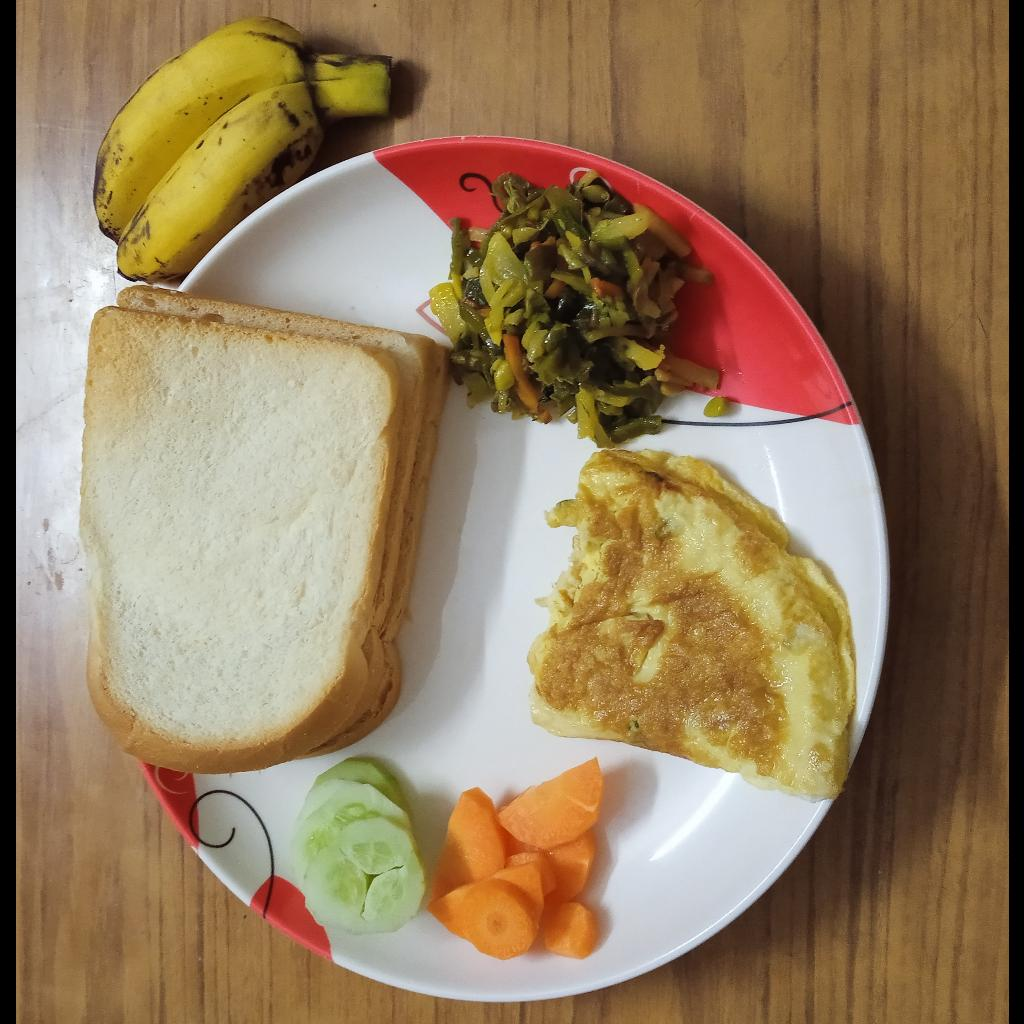banana: (91, 15, 391, 283)
bread: (78, 286, 445, 779)
carrot: (427, 757, 605, 962)
cucumber: (291, 759, 427, 936)
egg-poached: (526, 449, 854, 806)
vegetable: (428, 170, 724, 446)
